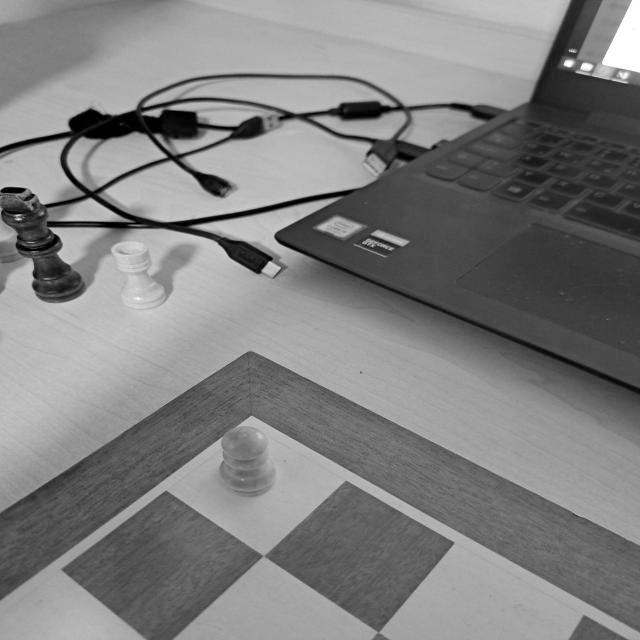chess-table-corners: (212, 402, 295, 456)
